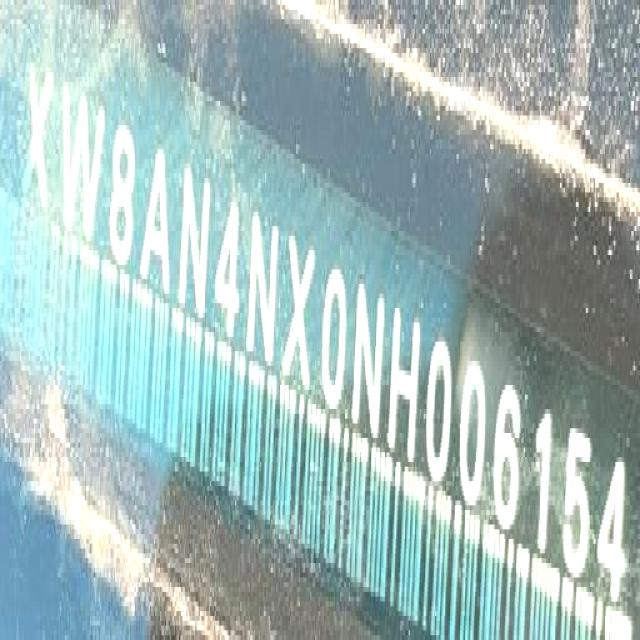0: (424, 317, 454, 498), (459, 338, 488, 520), (320, 255, 349, 429)
1: (534, 388, 554, 568)
4: (596, 449, 628, 608), (214, 183, 242, 354)
5: (563, 419, 591, 588)
6: (490, 382, 522, 544)
8: (111, 110, 136, 276)
A: (140, 146, 172, 294)
H: (386, 296, 421, 481)
N: (350, 280, 388, 445), (246, 214, 282, 374), (178, 164, 212, 323)
W: (61, 68, 101, 254)
X: (278, 226, 318, 394), (22, 48, 54, 216)
